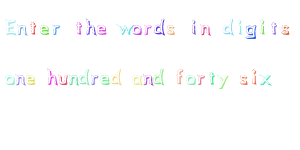E: (3, 16, 17, 36)
a: (130, 73, 142, 86)
d: (152, 15, 166, 36), (153, 67, 165, 86), (222, 17, 233, 36), (110, 69, 123, 85), (78, 67, 89, 85)
e: (96, 23, 108, 36), (24, 72, 36, 85), (39, 24, 51, 36), (99, 74, 110, 86)
f: (174, 68, 184, 87)
g: (244, 24, 258, 41)
h: (84, 16, 97, 35), (46, 68, 58, 86)
i: (188, 19, 199, 36), (257, 17, 267, 35), (250, 67, 259, 87), (236, 19, 243, 35)
n: (199, 23, 211, 37), (16, 23, 28, 36), (15, 72, 26, 86), (68, 73, 79, 86), (143, 73, 154, 86)
o: (185, 74, 198, 87), (3, 73, 15, 87), (130, 23, 142, 36)
r: (143, 23, 154, 37), (50, 23, 61, 36), (89, 73, 99, 85), (196, 73, 205, 86)
s: (280, 22, 291, 37), (238, 72, 248, 86), (166, 24, 176, 35)
t: (73, 20, 83, 36), (29, 19, 38, 36), (207, 69, 216, 86), (270, 21, 278, 36)
u: (57, 73, 69, 86)
w: (115, 23, 133, 36)
x: (259, 73, 273, 87)
y: (216, 72, 228, 90)
